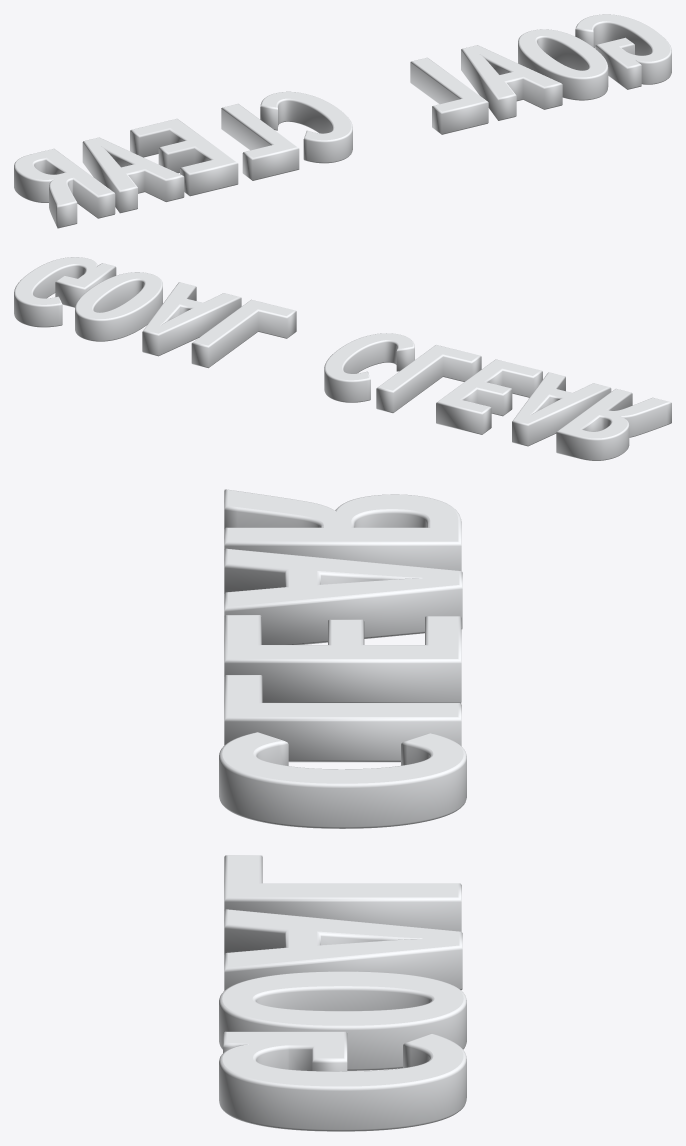
Rendered from goal_clear.obj.
3 views of the same model, one above another, from view 1: azimuth 30°, elevation 25°; view 2: azimuth 150°, elevation 25°; view 3: azimuth 270°, elevation 25° (orthographic). The views are drawn at different scales.
Parts seen in each view (by area): view 1: goal_clear; view 2: goal_clear; view 3: goal_clear.
Part boxes in pixels (x1,y1,x2,y2): goal_clear: (14,14,671,228); goal_clear: (14,257,671,460); goal_clear: (219,489,466,1131).
Size of the model in its own units: 7.2 by 0.251 by 1.26.
1 material, 1 textured.
